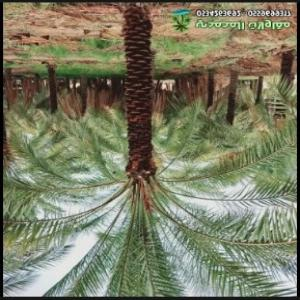palm tree: (2, 2, 297, 296)
